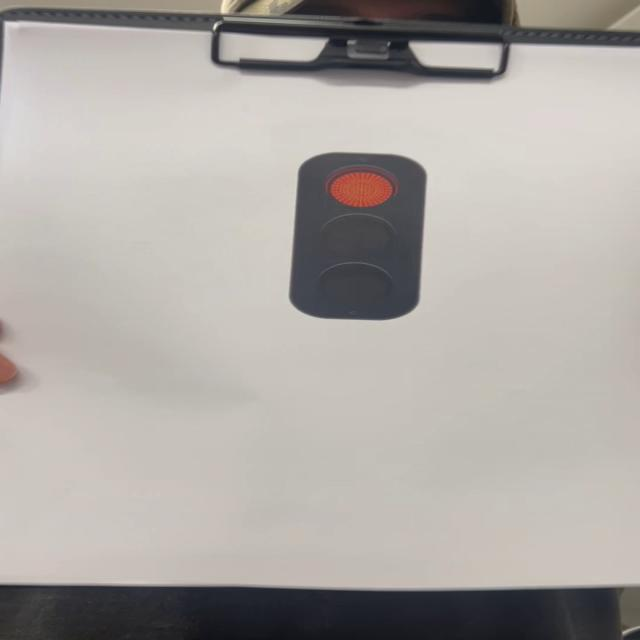red: (292, 152, 424, 322)
